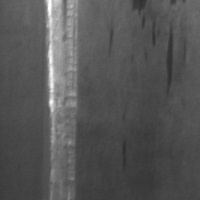inclusion: (129, 0, 158, 48), (161, 22, 178, 98), (104, 21, 117, 61), (117, 134, 131, 171)
scratches: (44, 0, 80, 199)
